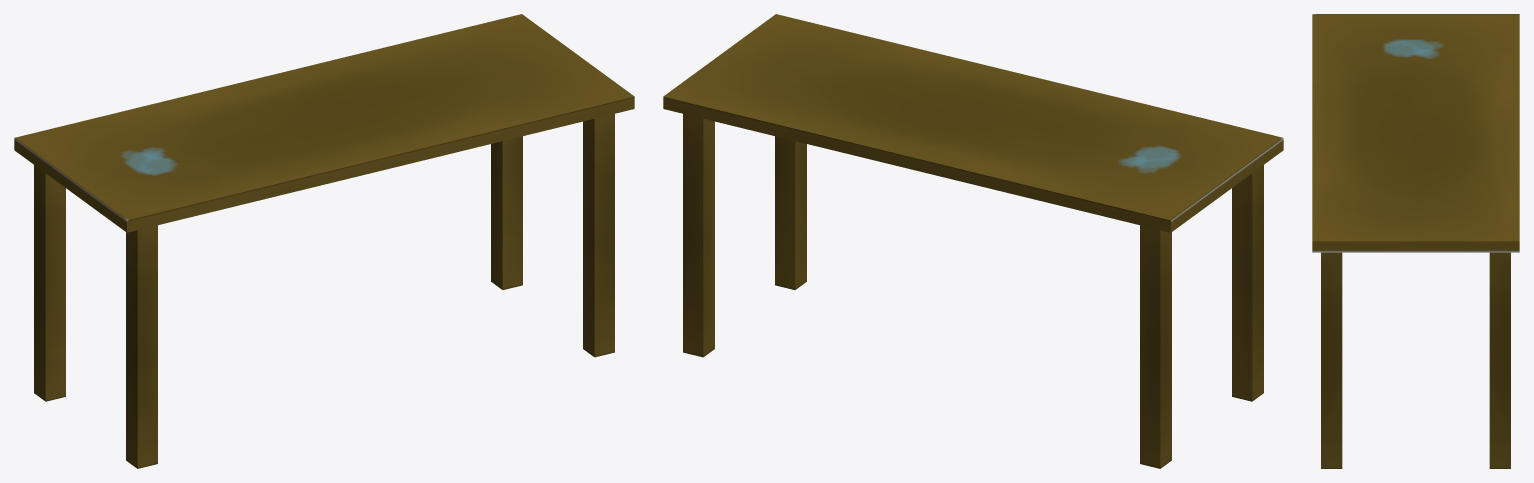
File: computer 1.fbx
3 renders of one model, left to right at view 1: azimuth 30°, elevation 25°; view 2: azimuth 150°, elevation 25°; view 3: azimuth 270°, elevation 25°, orthographic. The views are drawn at different scales.
Parts seen in each view (by area): view 1: table; view 2: table; view 3: table.
Boxes of the visible parts, x1,y1,x2,y2 form: table: [14, 14, 634, 468]; table: [663, 14, 1283, 468]; table: [1312, 14, 1519, 468].
Size of the model in its own units: 245 by 118 by 94.46.
